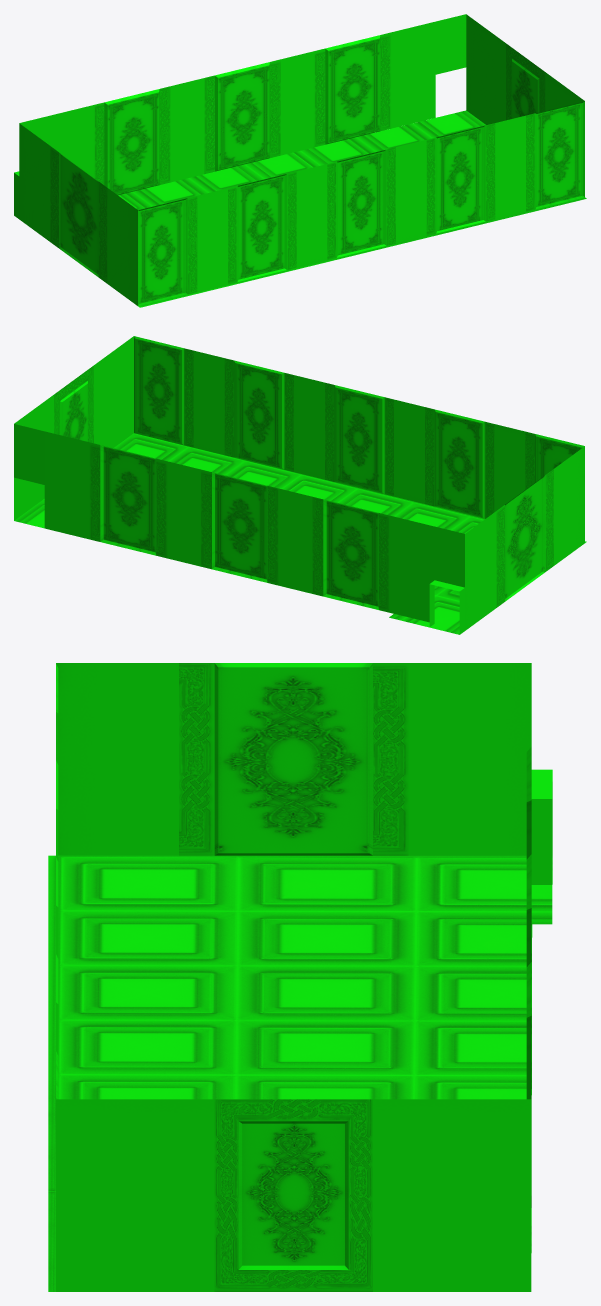
The picture shows the model from 3 angles, top to bottom: view 1: azimuth 30°, elevation 25°; view 2: azimuth 150°, elevation 25°; view 3: azimuth 270°, elevation 25°; orthographic projection. The views are drawn at different scales.
Visible parts, largest first — view 1: 식당 벽, 식당 바닥; view 2: 식당 벽, 식당 바닥; view 3: 식당 벽, 식당 바닥.
Boxes of the visible parts, <box> form: 식당 벽: <box>14,14,584,306</box>; 식당 바닥: <box>118,110,586,307</box>; 식당 벽: <box>14,336,584,634</box>; 식당 바닥: <box>14,433,586,634</box>; 식당 벽: <box>56,663,552,1291</box>; 식당 바닥: <box>48,855,552,1291</box>.
Bounding box in the file's own units: 969 × 199 × 473.
